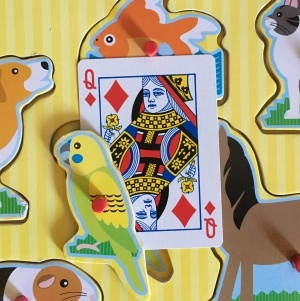card: (76, 53, 224, 248)
